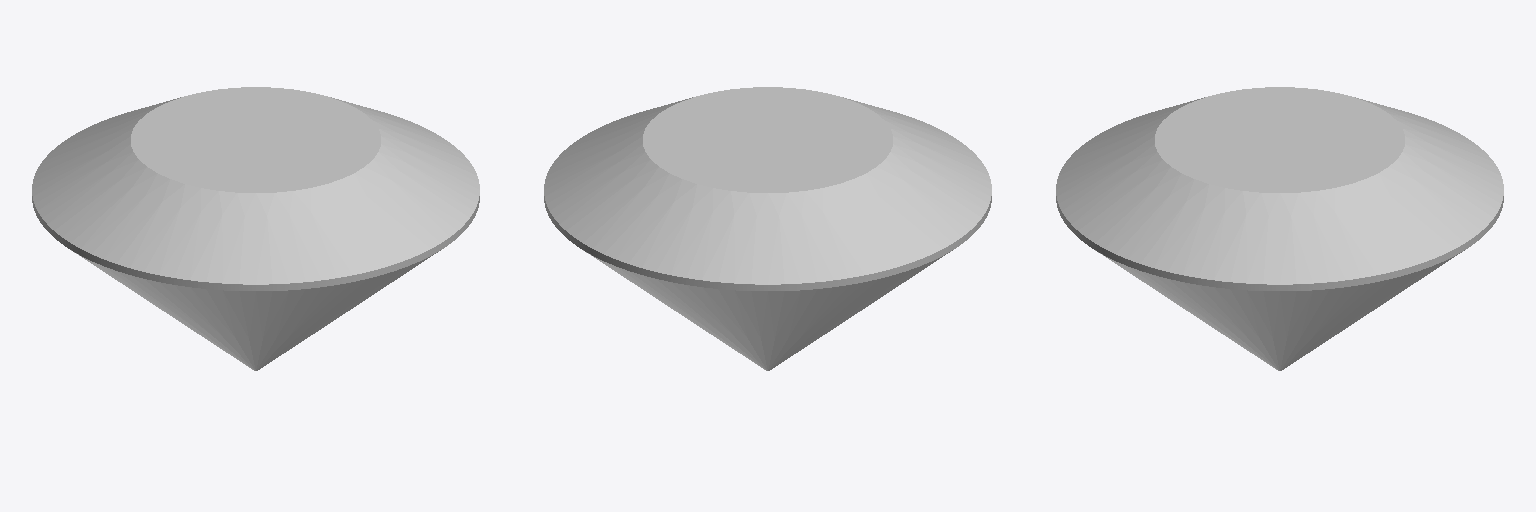
File: gem_uv.obj
3 renders of one model, left to right at view 1: azimuth 30°, elevation 25°; view 2: azimuth 150°, elevation 25°; view 3: azimuth 270°, elevation 25°, orthographic.
Visible parts, largest first — view 1: Gem_dmesh.001; view 2: Gem_dmesh.001; view 3: Gem_dmesh.001.
Boxes of the visible parts, x1,y1,x2,y2 form: Gem_dmesh.001: [32, 87, 479, 370]; Gem_dmesh.001: [544, 87, 991, 370]; Gem_dmesh.001: [1056, 87, 1503, 370].
Bounding box in the file's own units: 2 × 1.14 × 2.